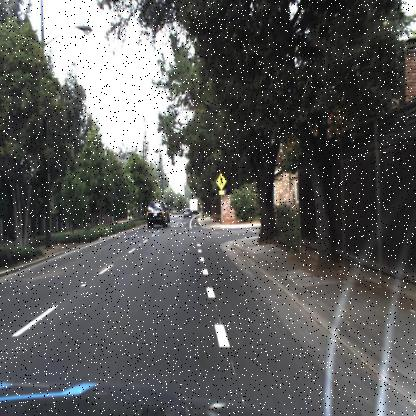car: (143, 198, 167, 229), (188, 196, 198, 213), (181, 206, 193, 219)
truck: (186, 194, 199, 220)
